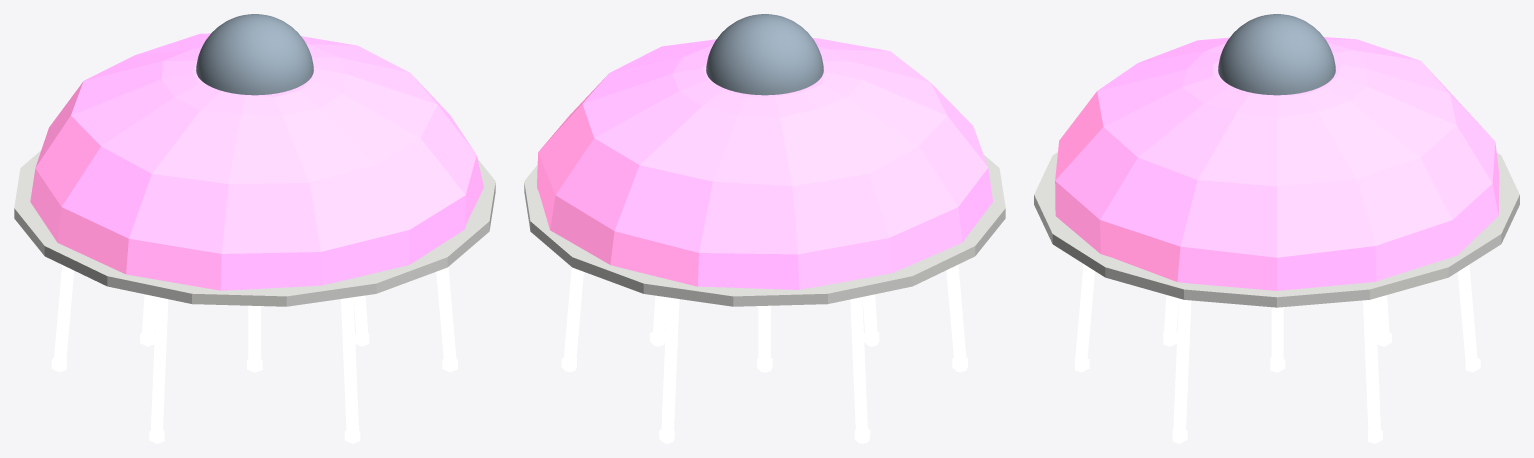
The model's file is jelly.glb.
3 renders of one model, left to right at view 1: azimuth 30°, elevation 25°; view 2: azimuth 150°, elevation 25°; view 3: azimuth 270°, elevation 25°, orthographic.
Parts seen in each view (by area): view 1: jelly, dome.009; view 2: jelly, dome.009; view 3: jelly, dome.009.
Part boxes in pixels (x1,y1,x2,y2): jelly: [14, 33, 495, 443]; dome.009: [196, 14, 313, 95]; jelly: [524, 38, 1005, 443]; dome.009: [706, 14, 823, 95]; jelly: [1034, 37, 1519, 443]; dome.009: [1218, 14, 1335, 95].
Size of the model in its own units: 5.1 by 4.09 by 5.1.
